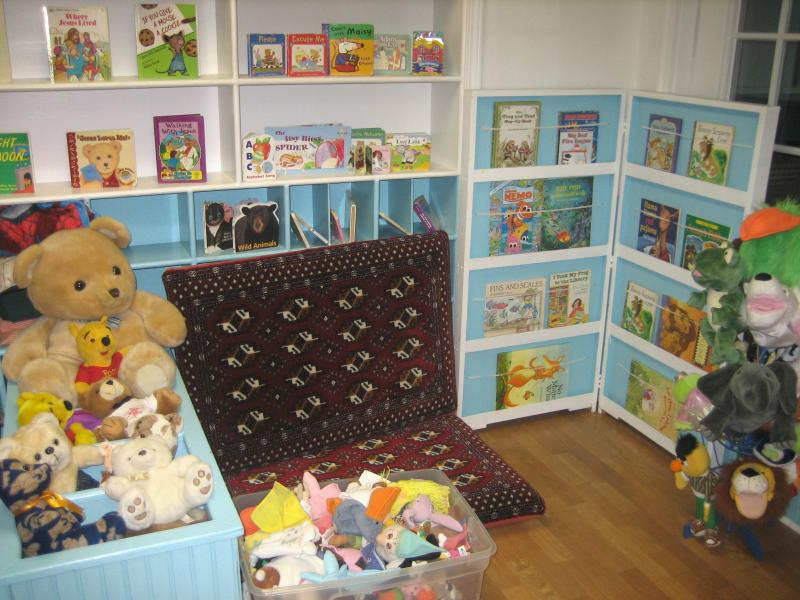Otro Obstaculo: (5, 269, 245, 596)
